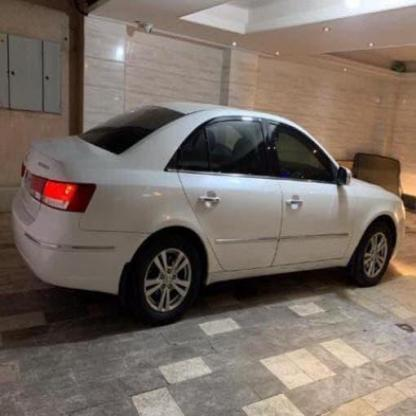Car: (14, 114, 408, 312)
